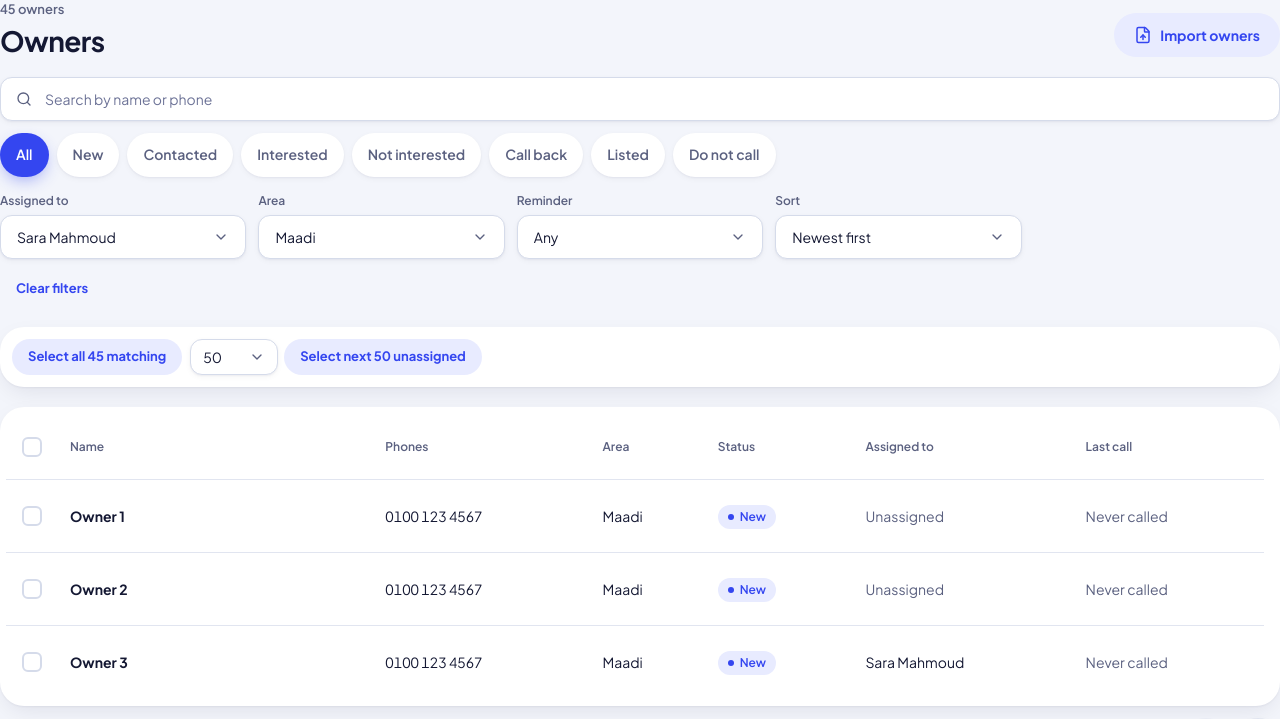
Test: Admin owners table › selects the next N unassigned owners and says when fewer exist
Click the dropdown with test id "next-size" at {"x": 234, "y": 357}, box [190,339,278,375]
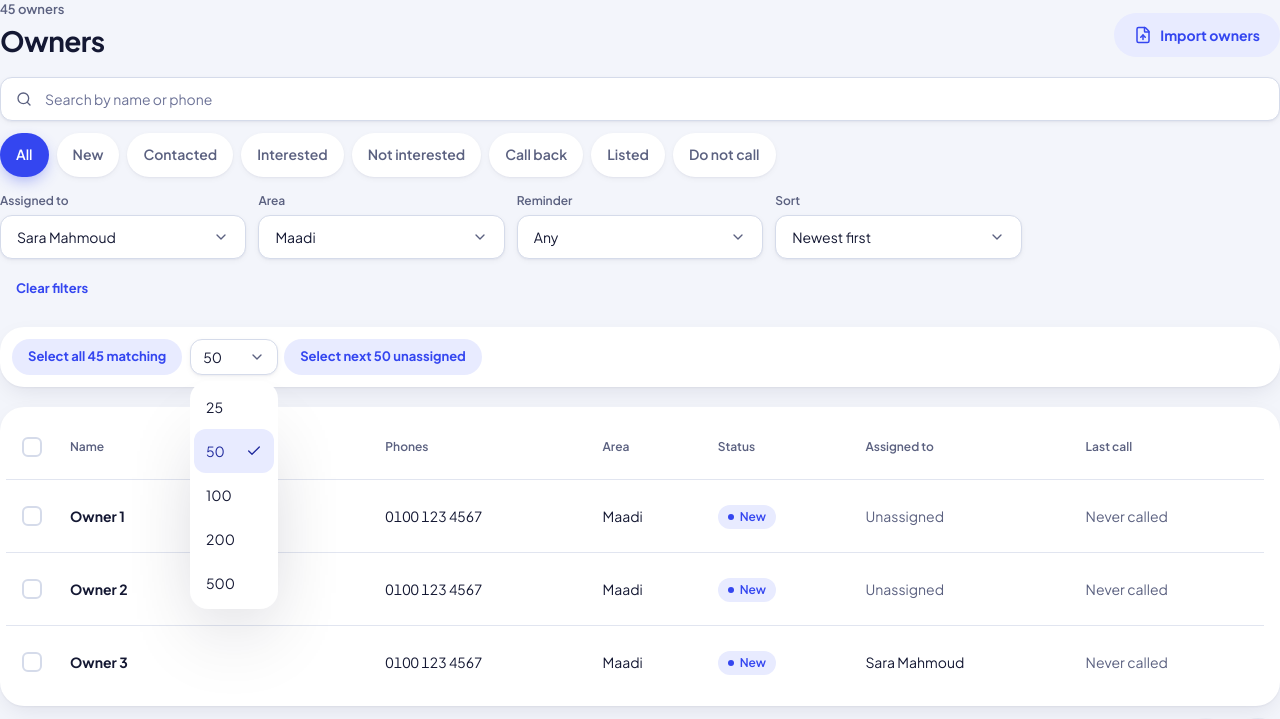
Click the option "200" at {"x": 220, "y": 539}, box [206,530,235,548]
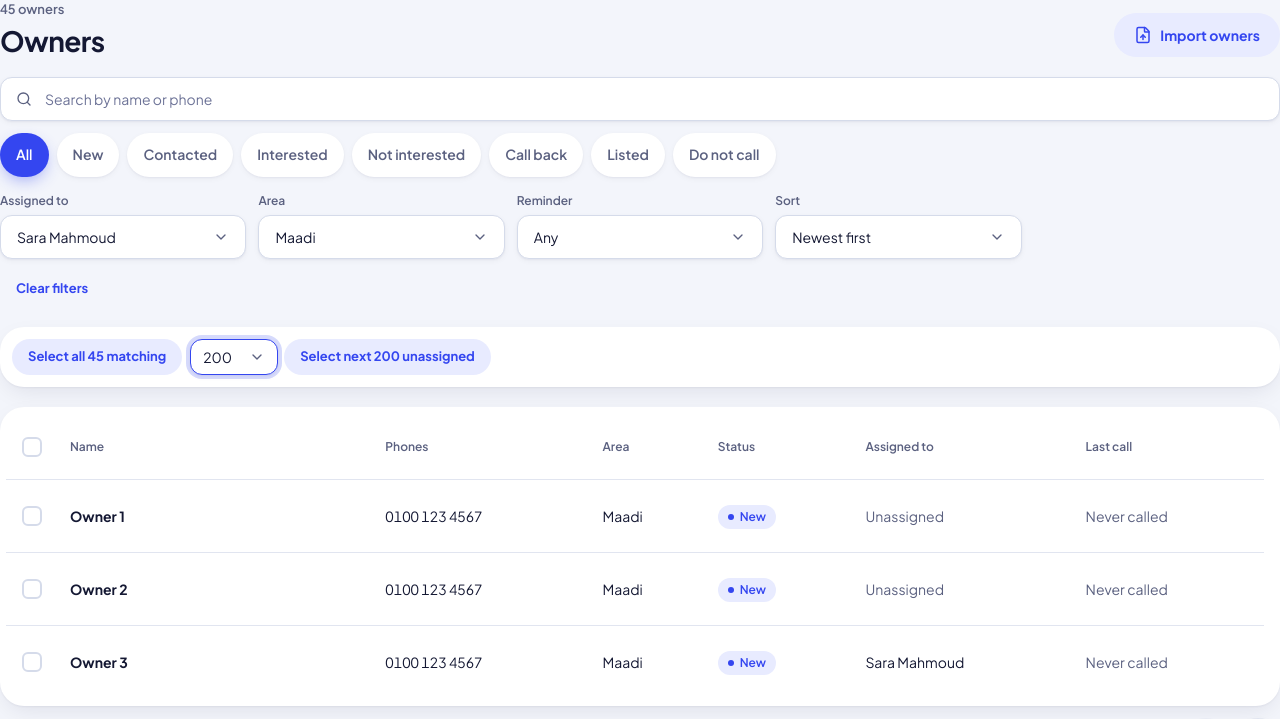
Click the button with test id "select-next-unassigned" at {"x": 388, "y": 357}, box [284,339,491,375]
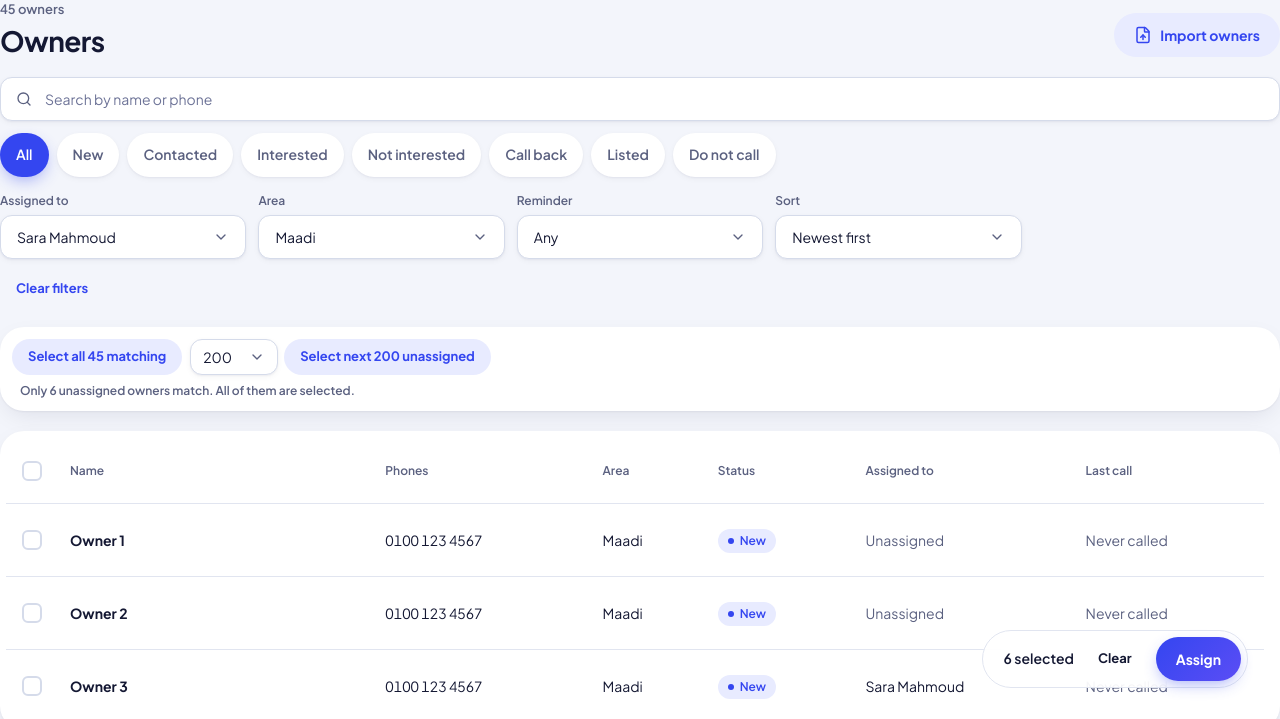
Result: the element with test id "selection-dock" shows "6 selected" at [1003,649,1074,667]
